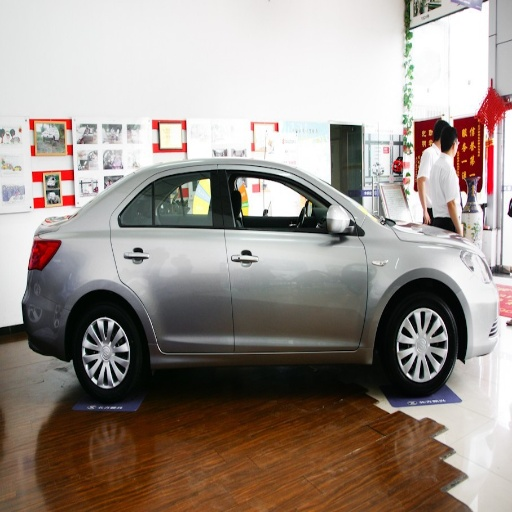back_right_door: (112, 168, 231, 355)
front_right_door: (223, 168, 367, 354)
